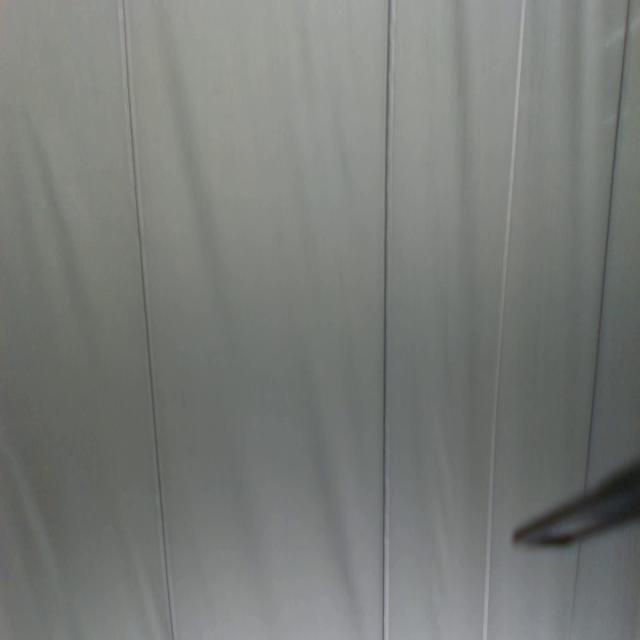crease: (117, 0, 178, 640), (570, 0, 634, 597), (481, 0, 529, 636), (379, 1, 396, 640)
